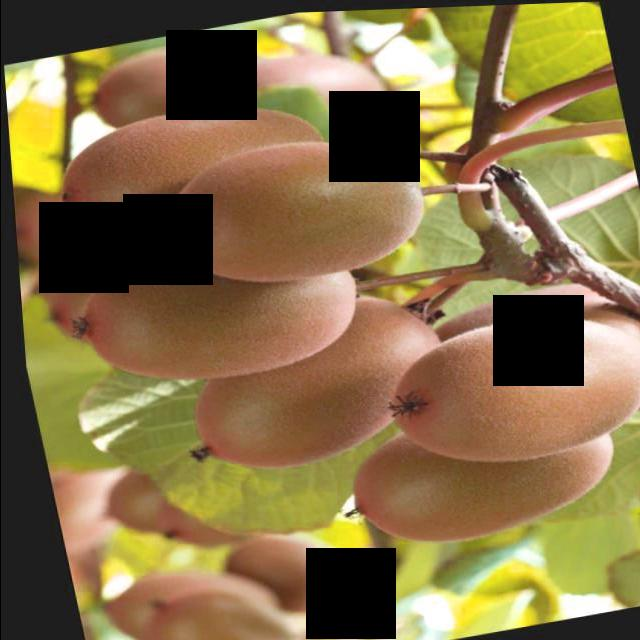kiwi: (154, 275, 462, 489), (50, 208, 378, 405), (42, 81, 361, 266), (309, 388, 631, 564), (145, 120, 439, 303), (360, 297, 640, 485), (388, 261, 640, 430), (185, 32, 404, 174), (76, 22, 293, 148), (90, 546, 281, 640), (207, 519, 363, 630), (130, 565, 307, 640), (613, 437, 640, 554)
